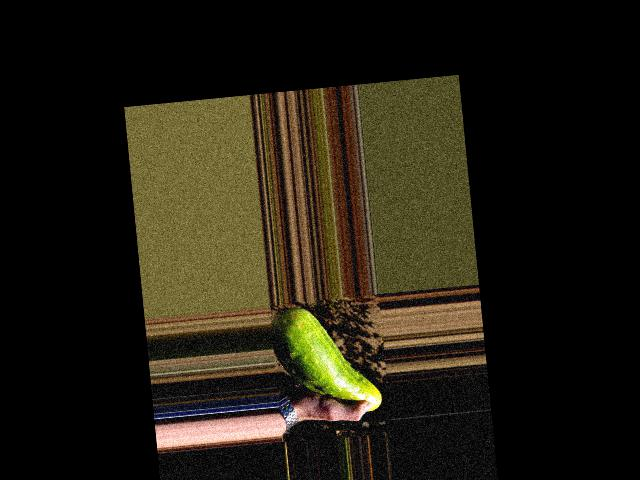cucumber: (268, 299, 382, 420)
